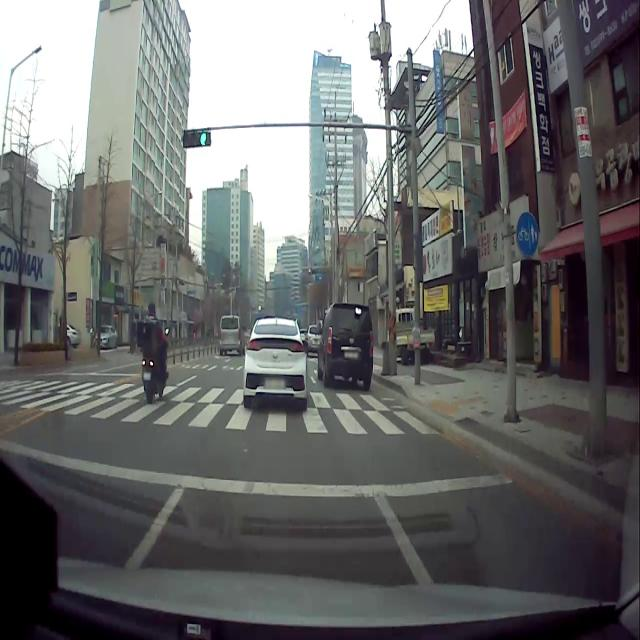Green Light: (200, 130, 208, 147)
